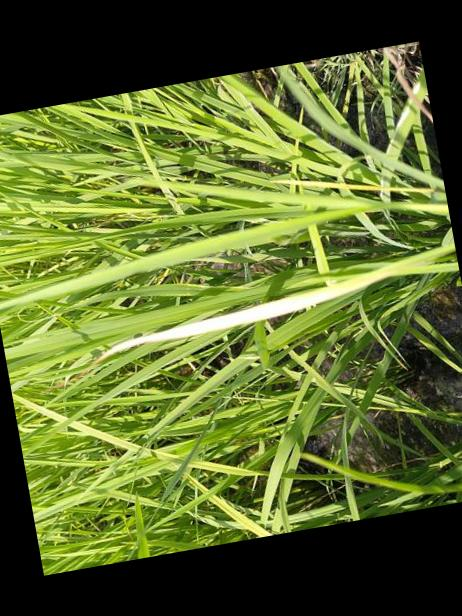Leaf Blight: (91, 282, 365, 364)
